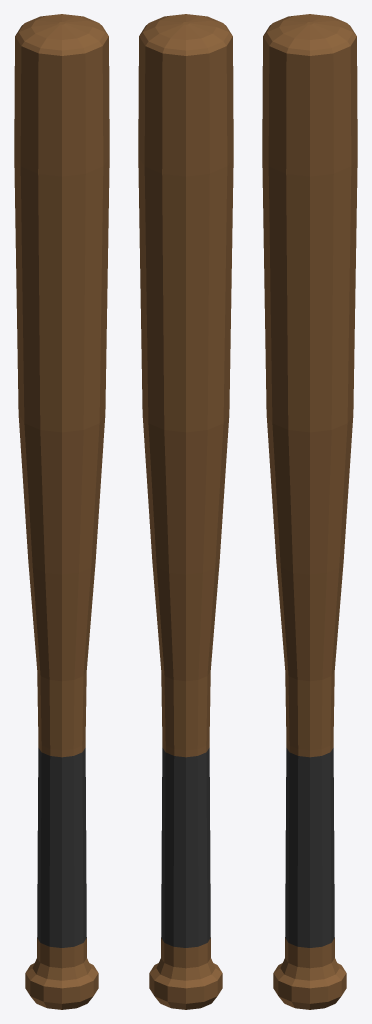
The model's file is Baseballbat.fbx.
3 views of the same model, side by side, from view 1: azimuth 90°, elevation 25°; view 2: azimuth 150°, elevation 25°; view 3: azimuth 270°, elevation 25° (orthographic).
Visible parts, largest first — view 1: Bat; view 2: Bat; view 3: Bat.
Part boxes in pixels (<box>): Bat: <box>14,14,109,1009</box>; Bat: <box>138,14,233,1009</box>; Bat: <box>262,14,357,1009</box>.
Size of the model in its own units: 3.23 by 36.38 by 3.23.
